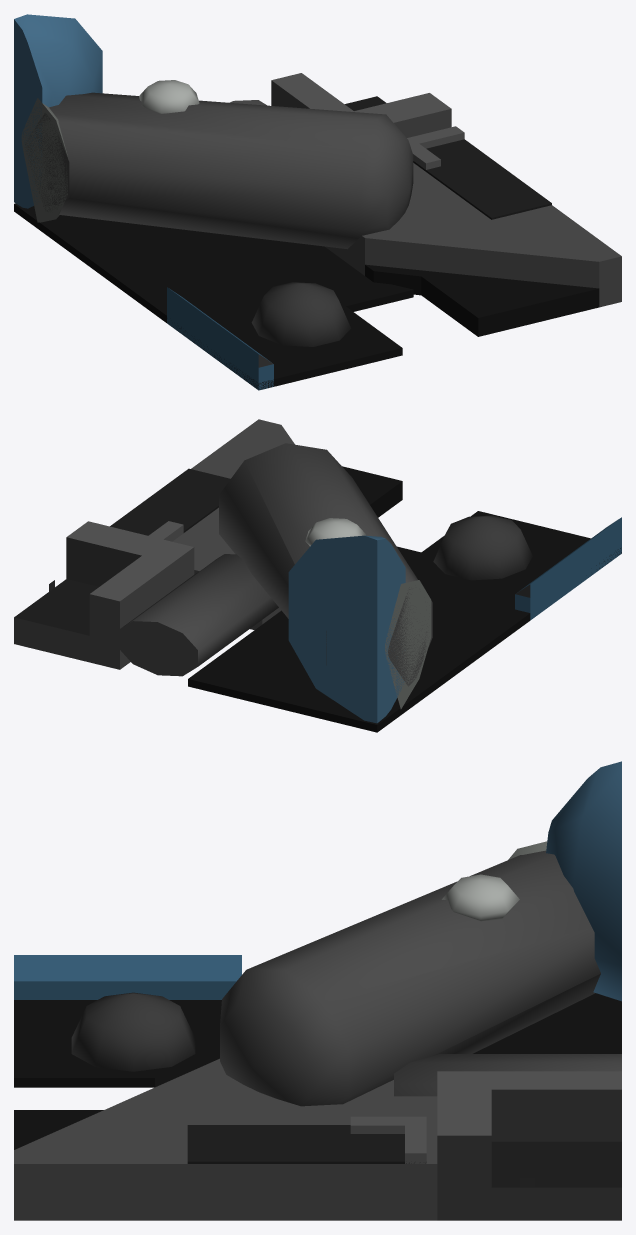
The model's file is newsho-87.glb.
3 views of the same model, one above another, from view 1: azimuth 30°, elevation 25°; view 2: azimuth 150°, elevation 25°; view 3: azimuth 270°, elevation 25° (orthographic). The views are drawn at different scales.
Parts seen in each view (by area): view 1: newsho-87; view 2: newsho-87; view 3: newsho-87.
Part boxes in pixels (x1,y1,x2,y2): newsho-87: [14, 14, 621, 390]; newsho-87: [14, 419, 621, 732]; newsho-87: [14, 761, 621, 1220].
Size of the model in its own units: 2 by 1.02 by 2.33.
